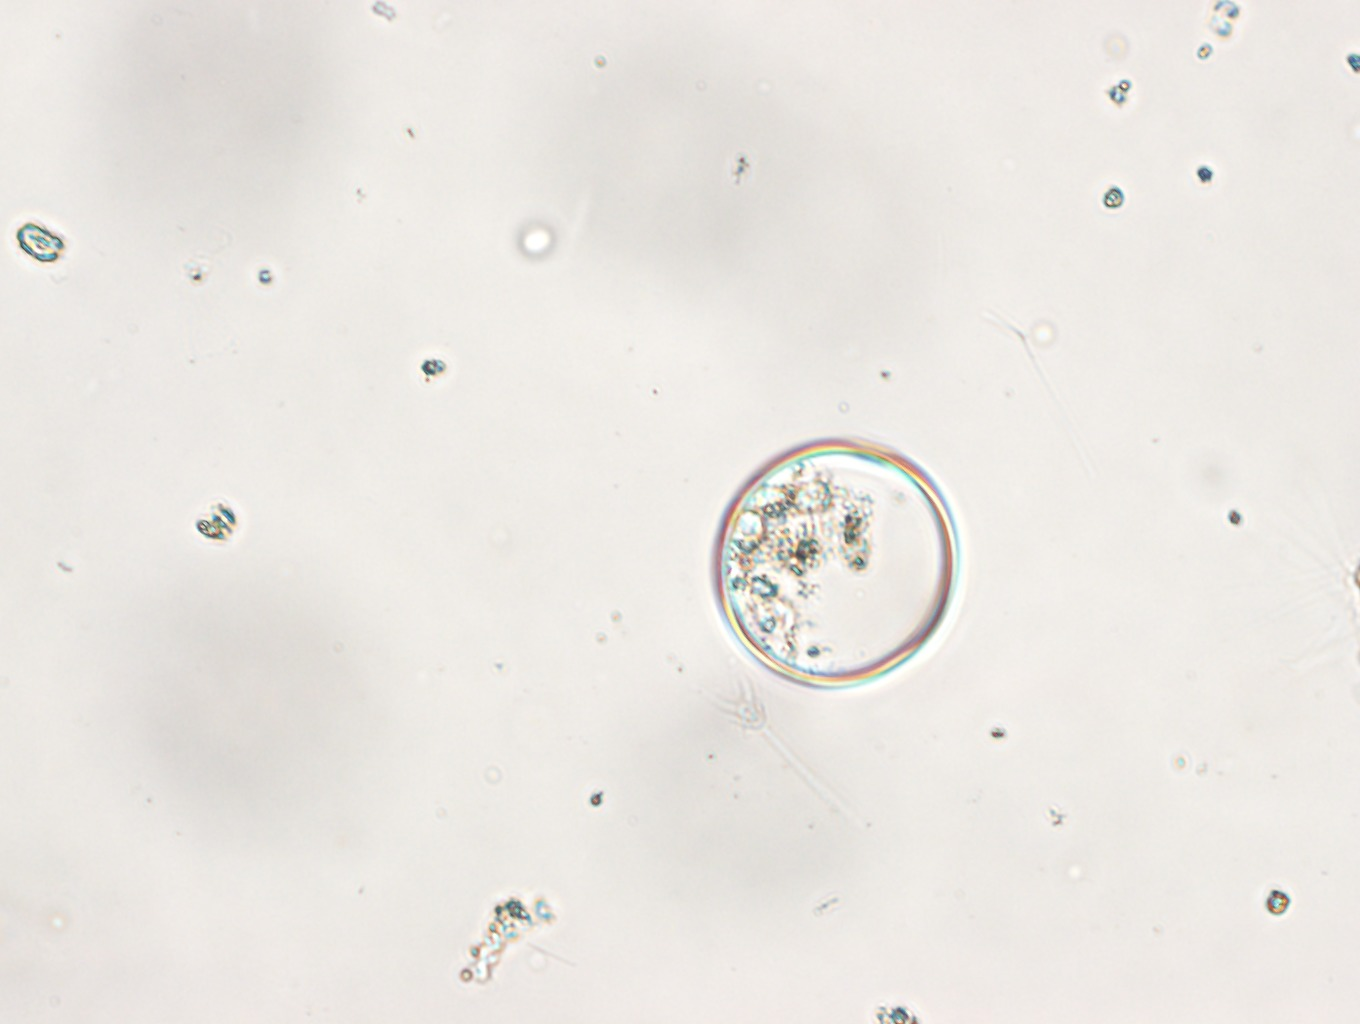coscinodiscus: (708, 435, 963, 691)
